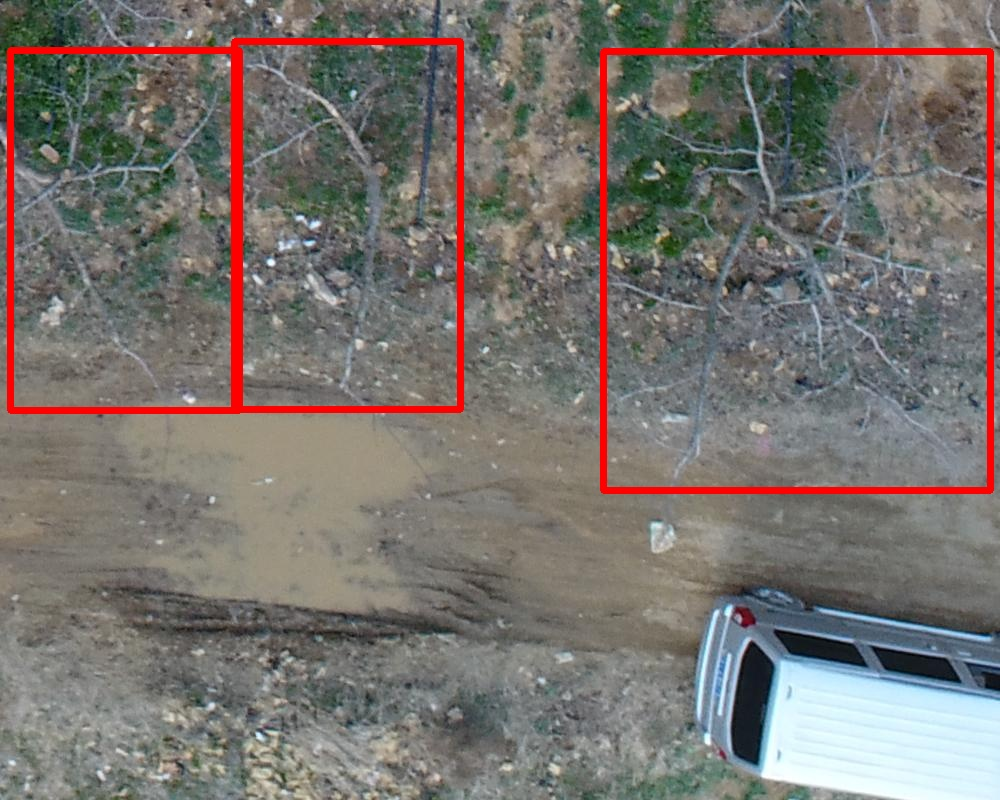apple: (603, 51, 990, 490), (234, 41, 460, 409), (10, 50, 239, 410)
